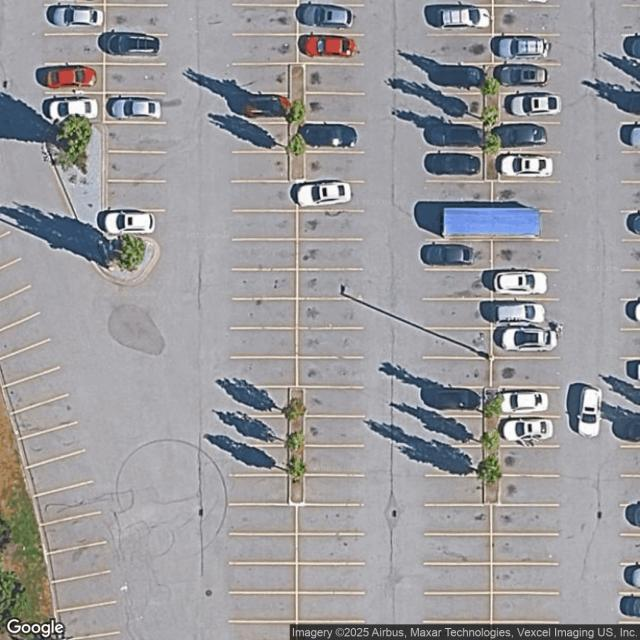car: (296, 181, 354, 208), (501, 326, 560, 352), (101, 208, 157, 235), (494, 270, 550, 297), (100, 34, 163, 57), (499, 152, 554, 178), (424, 151, 481, 176), (422, 242, 478, 267), (426, 123, 484, 147), (300, 3, 351, 30), (47, 4, 103, 28), (301, 34, 357, 58), (303, 124, 358, 148), (110, 97, 163, 121), (502, 418, 555, 442), (43, 65, 97, 88), (437, 7, 491, 30), (498, 388, 549, 412), (46, 98, 99, 121), (493, 301, 546, 324), (496, 37, 551, 59), (428, 67, 486, 87), (509, 97, 563, 117), (500, 67, 550, 86), (502, 126, 548, 146)
lot_boundary: (0, 0, 639, 639)
objects: (40, 126, 160, 283), (421, 207, 557, 238), (290, 66, 303, 180), (290, 390, 302, 505), (485, 391, 497, 502), (486, 66, 497, 178)
stall: (28, 449, 94, 496), (5, 368, 69, 414), (35, 480, 100, 524), (21, 422, 85, 466), (12, 395, 77, 438), (0, 340, 59, 386), (45, 512, 106, 554), (50, 541, 111, 582), (54, 570, 115, 610), (0, 313, 49, 359), (57, 603, 118, 639), (297, 299, 364, 329), (297, 358, 364, 388), (230, 210, 297, 240), (229, 359, 296, 389), (229, 299, 296, 329), (231, 239, 298, 269), (231, 4, 298, 34), (297, 5, 364, 35), (297, 182, 364, 212), (297, 240, 364, 270), (104, 94, 171, 124), (104, 64, 171, 94), (37, 94, 104, 124), (104, 34, 171, 64), (424, 328, 491, 358), (425, 270, 492, 300), (37, 4, 104, 34), (425, 242, 492, 272), (492, 239, 559, 269), (493, 270, 560, 300), (492, 358, 559, 388), (491, 504, 558, 534), (424, 536, 491, 566), (492, 534, 559, 564), (427, 4, 494, 34), (493, 5, 560, 35), (426, 34, 493, 64), (298, 269, 364, 299), (298, 328, 364, 358), (231, 181, 297, 211), (230, 329, 296, 359), (231, 270, 297, 300), (232, 34, 298, 64), (297, 34, 363, 64), (298, 210, 364, 240), (230, 505, 296, 535), (298, 534, 364, 564), (230, 534, 296, 564), (297, 504, 363, 534), (39, 32, 105, 62), (38, 62, 104, 92), (105, 4, 171, 34), (425, 299, 491, 329), (493, 326, 559, 356), (425, 504, 491, 534), (424, 358, 490, 388), (425, 182, 491, 212), (491, 181, 557, 211), (425, 564, 491, 594), (492, 564, 558, 594), (493, 34, 559, 64), (230, 593, 297, 622), (492, 595, 560, 623), (297, 594, 364, 622), (297, 565, 363, 593), (230, 565, 296, 593), (425, 595, 492, 622), (492, 301, 560, 327), (230, 122, 288, 152), (306, 122, 364, 152), (306, 64, 364, 94), (230, 446, 288, 476), (304, 416, 362, 446), (305, 446, 363, 476), (424, 388, 482, 418), (0, 285, 39, 329), (501, 388, 558, 418), (501, 64, 558, 94), (306, 152, 364, 181), (229, 93, 287, 122), (306, 93, 364, 122), (230, 152, 288, 181), (109, 123, 167, 152), (306, 388, 364, 417), (108, 182, 166, 211), (108, 152, 166, 181), (230, 417, 288, 446), (232, 388, 290, 417), (306, 476, 364, 505), (230, 475, 288, 504), (425, 417, 483, 446), (426, 446, 484, 475), (425, 476, 483, 505), (502, 152, 560, 181), (426, 94, 484, 123), (501, 94, 559, 123), (502, 123, 560, 152), (425, 124, 483, 153), (426, 65, 484, 94), (501, 447, 558, 476), (501, 417, 558, 446), (230, 66, 288, 94), (426, 152, 484, 180), (501, 476, 558, 504), (109, 211, 165, 237), (230, 622, 295, 640), (491, 623, 559, 640), (297, 623, 364, 640), (424, 623, 490, 640)
